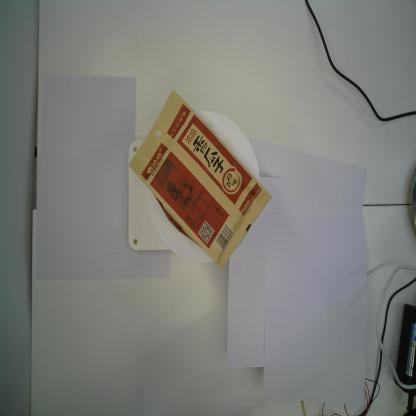Dried Food: (127, 88, 272, 273)
